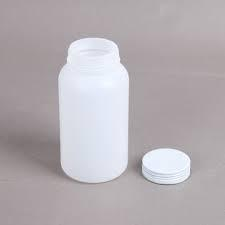Container for household chemicals: (48, 25, 132, 186)
